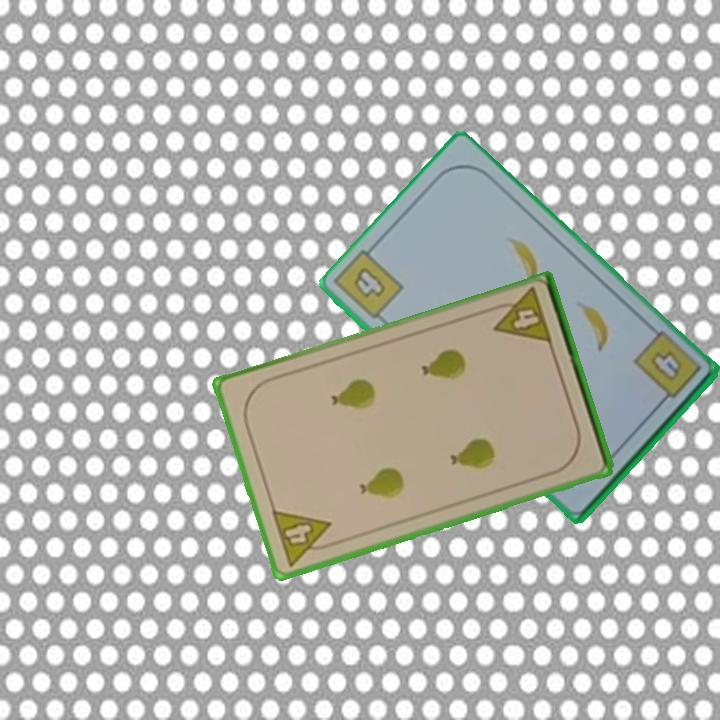4b: (630, 331, 704, 410), (349, 263, 388, 301)
4p: (268, 506, 340, 569), (485, 284, 555, 347)
